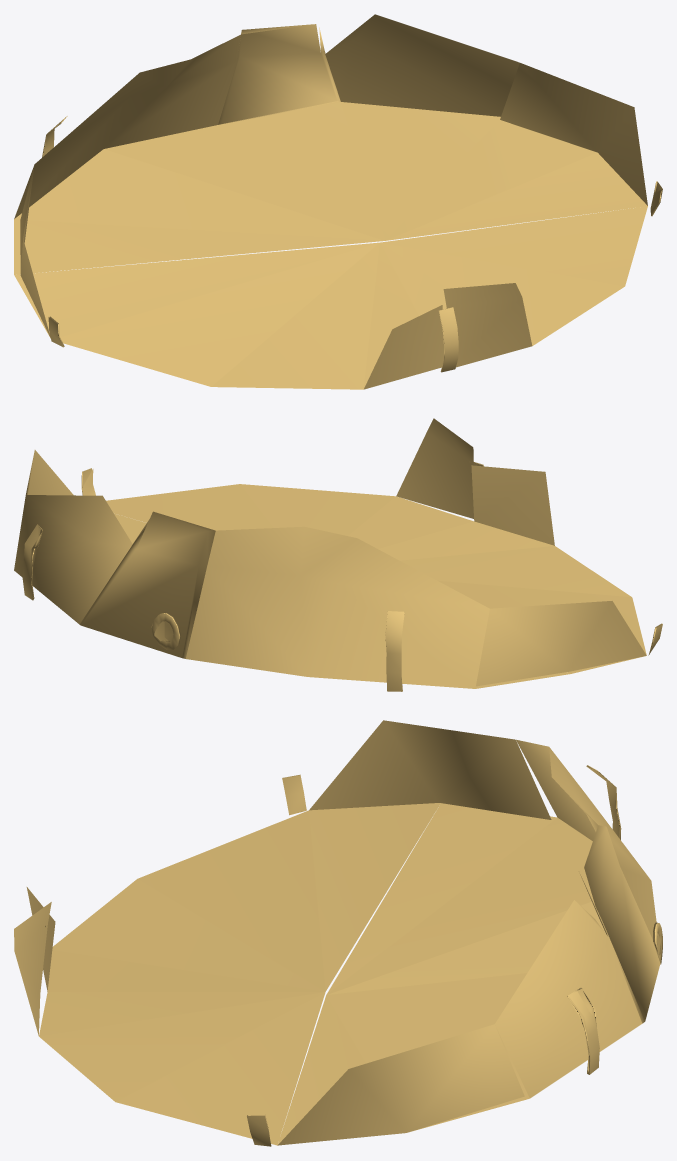
The model's file is hip.glb.
3 renders of one model, top to bottom at view 1: azimuth 30°, elevation 25°; view 2: azimuth 150°, elevation 25°; view 3: azimuth 270°, elevation 25°, orthographic. The views are drawn at different scales.
Visible parts, largest first — view 1: shorts-yellow_HIP; view 2: shorts-yellow_HIP; view 3: shorts-yellow_HIP.
Boxes of the visible parts, box(x1,y1,x2,y2) form: shorts-yellow_HIP: box(14, 14, 662, 389); shorts-yellow_HIP: box(14, 418, 662, 691); shorts-yellow_HIP: box(14, 720, 662, 1146).
Size of the model in its own units: 0.4259 by 0.1111 by 0.3341.
1 material, 1 textured.
